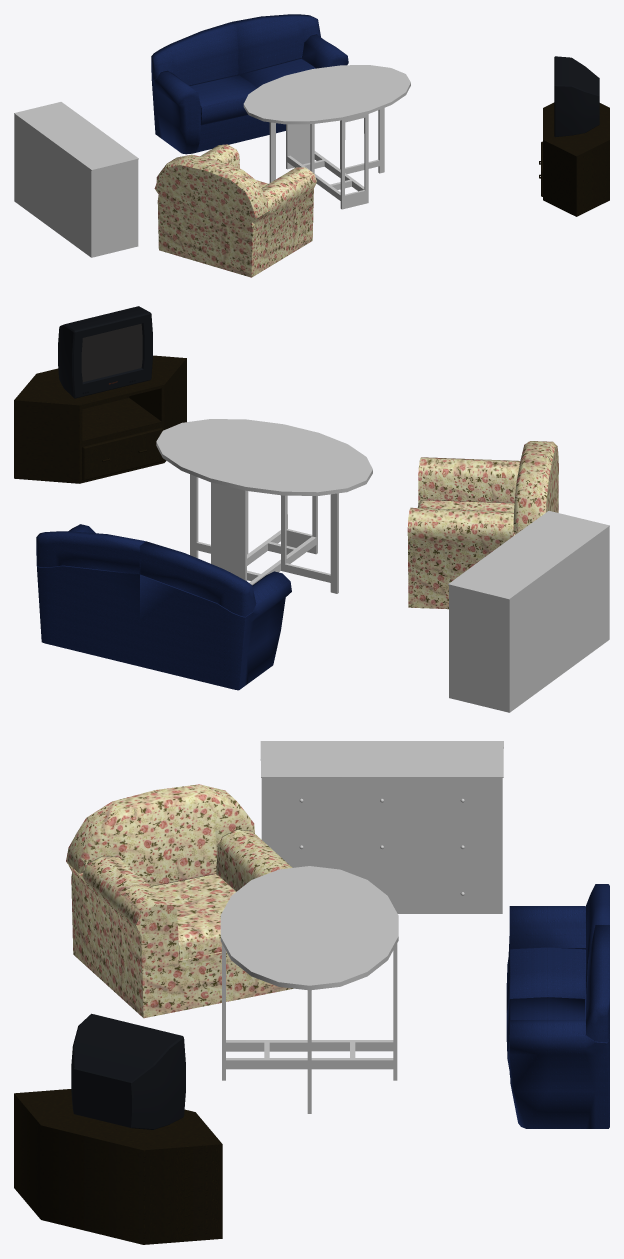
Rendered from furniture.dae.
The picture shows the model from 3 angles, top to bottom: view 1: azimuth 30°, elevation 25°; view 2: azimuth 150°, elevation 25°; view 3: azimuth 270°, elevation 25°; orthographic projection. The views are drawn at different scales.
Visible parts, largest first — view 1: sofa, arm_chair, cupboard, table_lid, cabinet, table_legs, TV; view 2: sofa, cupboard, arm_chair, cabinet, table_lid, table_legs, TV; view 3: cupboard, arm_chair, cabinet, sofa, table_lid, TV, table_legs.
Boxes of the visible parts, x1=… form: sofa: x1=151, y1=14, x2=348, y2=154; arm_chair: x1=154, y1=144, x2=316, y2=277; cupboard: x1=14, y1=102, x2=138, y2=257; table_lid: x1=243, y1=65, x2=410, y2=124; cabinet: x1=539, y1=102, x2=609, y2=216; table_legs: x1=269, y1=108, x2=384, y2=209; TV: x1=554, y1=56, x2=599, y2=137; sofa: x1=36, y1=524, x2=291, y2=690; cupboard: x1=448, y1=511, x2=609, y2=712; arm_chair: x1=407, y1=441, x2=558, y2=609; cabinet: x1=14, y1=355, x2=186, y2=483; table_lid: x1=156, y1=419, x2=372, y2=495; table_legs: x1=190, y1=474, x2=338, y2=593; TV: x1=58, y1=306, x2=152, y2=398; cupboard: x1=260, y1=741, x2=503, y2=913; arm_chair: x1=66, y1=784, x2=292, y2=1018; cabinet: x1=14, y1=1089, x2=222, y2=1244; sofa: x1=506, y1=884, x2=609, y2=1128; table_lid: x1=220, y1=866, x2=398, y2=990; TV: x1=71, y1=1013, x2=185, y2=1129; table_legs: x1=222, y1=943, x2=397, y2=1113.
Size of the model in its own units: 170 by 117 by 38.4.
